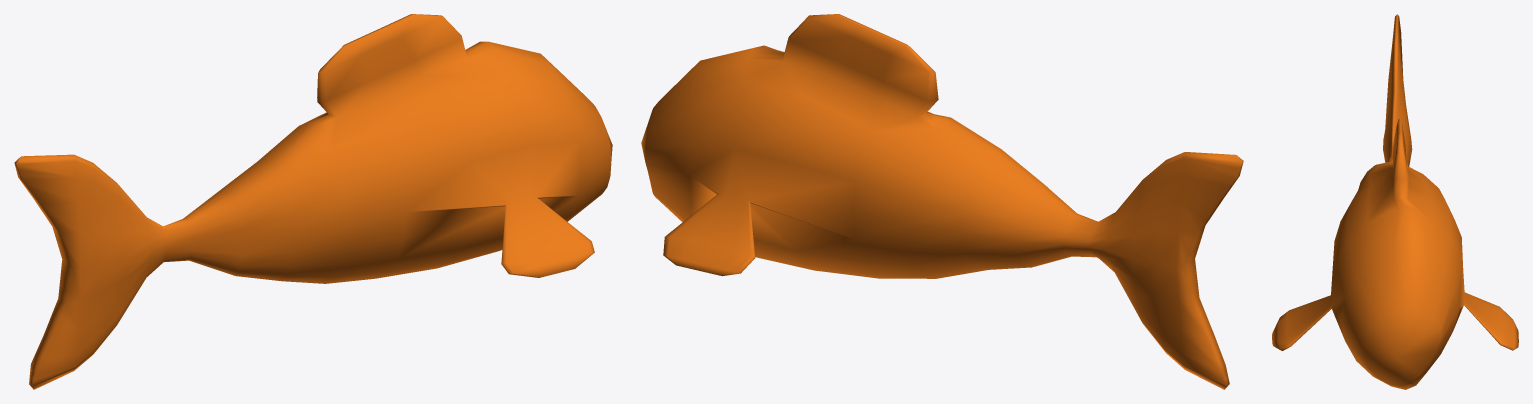
File: fish.glb
The picture shows the model from 3 angles, left to right: view 1: azimuth 30°, elevation 25°; view 2: azimuth 150°, elevation 25°; view 3: azimuth 270°, elevation 25°; orthographic projection. The views are drawn at different scales.
Visible parts, largest first — view 1: fish low poly; view 2: fish low poly; view 3: fish low poly.
Boxes of the visible parts, x1,y1,x2,y2 form: fish low poly: (14,14,612,389); fish low poly: (641,14,1243,389); fish low poly: (1272,14,1518,389).
Size of the model in its own units: 0.9319 by 0.4195 by 0.4088.
